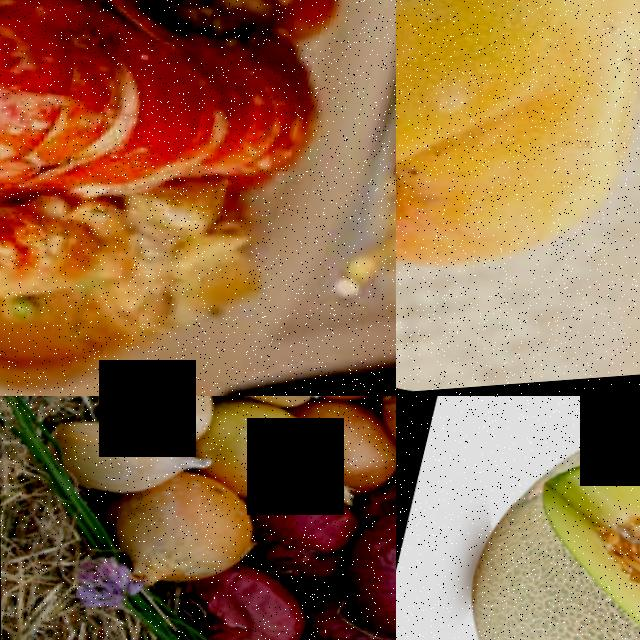lobster tails: (0, 0, 339, 267)
mango: (396, 0, 640, 337)
melon: (421, 396, 640, 640)
onion: (94, 471, 260, 604), (199, 398, 335, 518)
